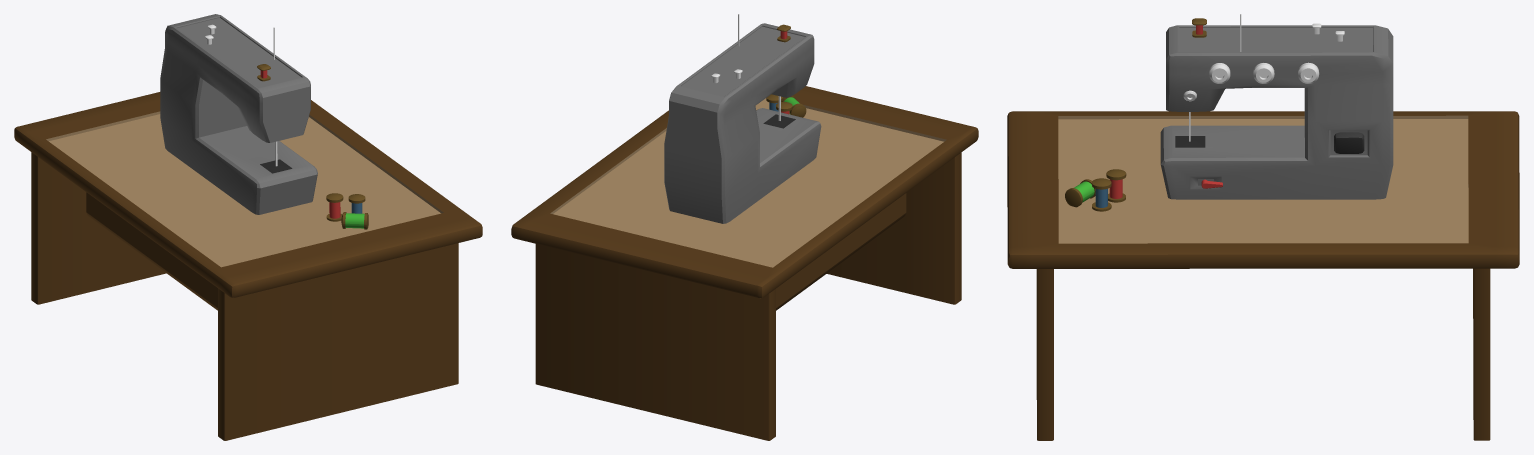
File: sewing machine.fbx
3 views of the same model, side by side, from view 1: azimuth 30°, elevation 25°; view 2: azimuth 150°, elevation 25°; view 3: azimuth 270°, elevation 25° (orthographic). The views are drawn at different scales.
Visible parts, largest first — view 1: Plane.076, Plane.077; view 2: Plane.076, Plane.077; view 3: Plane.076, Plane.077, Circle.201, Circle.200, Circle.210.
Boxes of the visible parts, x1,y1,x2,y2 form: Plane.076: [14, 92, 482, 440]; Plane.077: [160, 14, 317, 214]; Plane.076: [511, 86, 978, 440]; Plane.077: [664, 14, 821, 223]; Plane.076: [1007, 111, 1519, 440]; Plane.077: [1160, 14, 1393, 199]; Circle.201: [1065, 179, 1095, 207]; Circle.200: [1092, 178, 1111, 211]; Circle.210: [1106, 169, 1126, 202].
Bounding box in the file's own units: 173 × 207 × 259.
